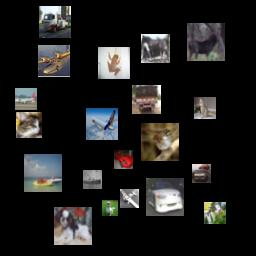airplane: (86, 108, 118, 140), (38, 45, 70, 77), (15, 88, 37, 110), (120, 189, 139, 208)
automobile: (146, 178, 184, 216), (114, 150, 133, 169)
bird: (141, 123, 179, 161)
cat: (16, 112, 42, 138), (194, 97, 216, 119), (204, 202, 226, 224)
deer: (187, 23, 225, 61)
dog: (54, 207, 92, 245), (102, 200, 118, 216)
frog: (98, 47, 130, 79)
ship: (24, 154, 62, 192), (83, 170, 102, 189)
truck: (39, 6, 71, 38), (132, 85, 161, 114), (192, 164, 211, 183)
